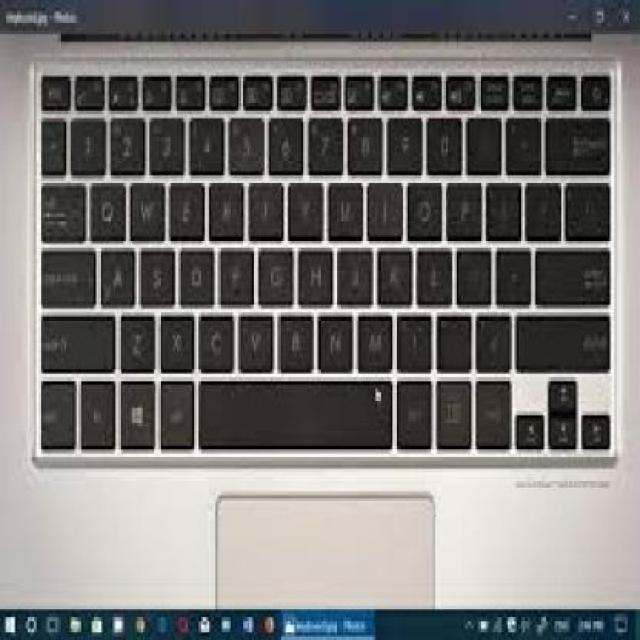keyboard: (31, 66, 618, 460)
